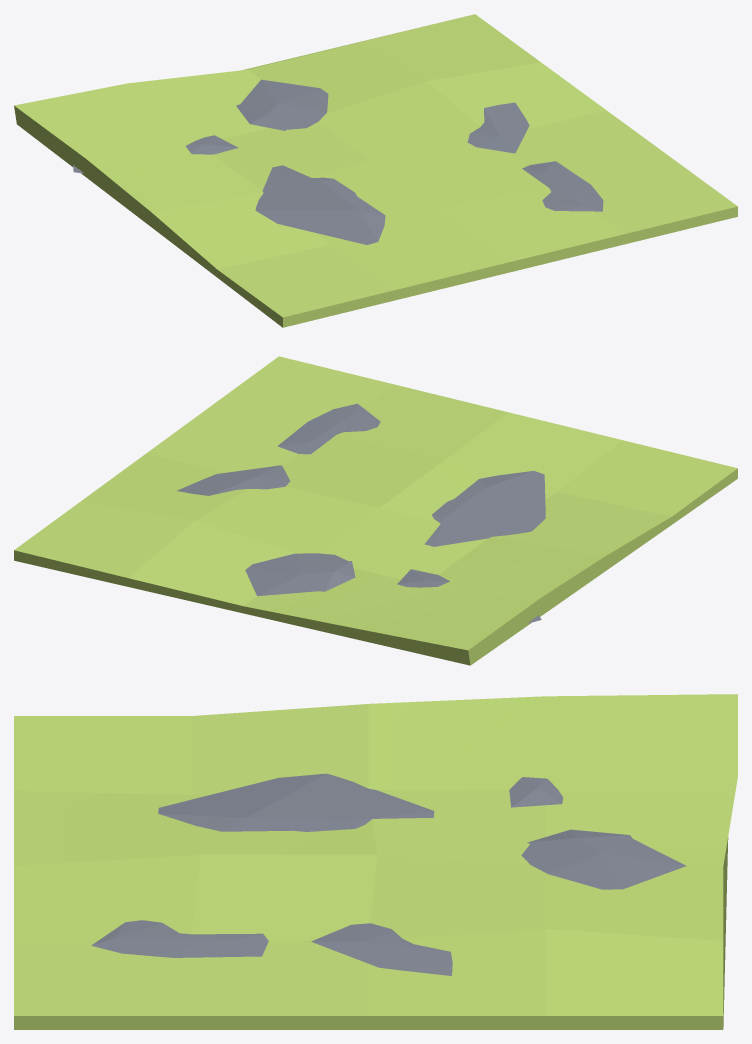
The model's file is floor_grass.fbx.
3 renders of one model, top to bottom at view 1: azimuth 30°, elevation 25°; view 2: azimuth 150°, elevation 25°; view 3: azimuth 270°, elevation 25°, orthographic. The views are drawn at different scales.
Visible parts, largest first — view 1: floor_grass; view 2: floor_grass; view 3: floor_grass.
Part boxes in pixels (<box>): floor_grass: <box>14,14,737,327</box>; floor_grass: <box>14,356,737,665</box>; floor_grass: <box>14,694,737,1029</box>.
Size of the model in its own units: 610 by 33.03 by 612.
